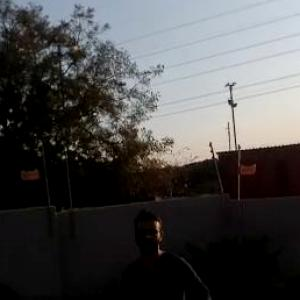follow: (114, 191, 220, 299)
